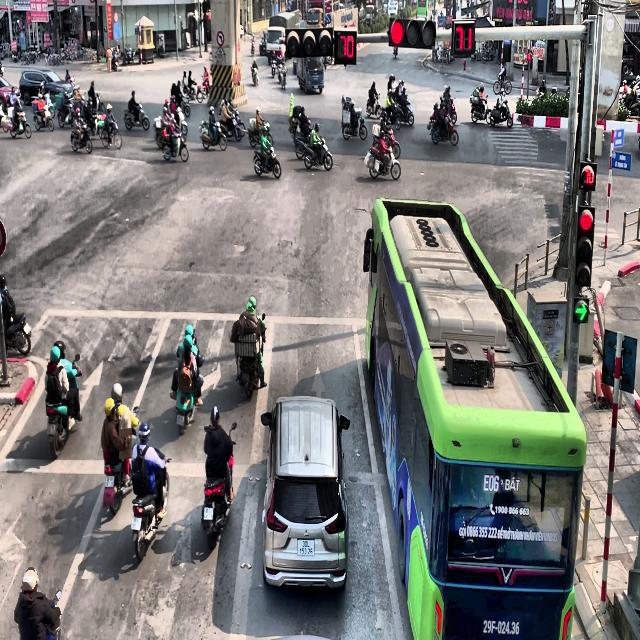BUS: (363, 197, 587, 639)
CAR: (260, 395, 350, 590), (19, 69, 75, 106)
MOTORBIKE: (201, 422, 237, 550), (131, 455, 171, 562), (102, 406, 140, 515), (45, 354, 82, 459), (235, 313, 266, 398), (0, 275, 31, 355), (174, 355, 204, 436), (364, 144, 400, 180), (4, 312, 31, 356), (303, 136, 333, 171), (162, 124, 189, 162), (253, 143, 281, 179), (1, 108, 32, 139), (428, 115, 458, 146), (199, 120, 227, 151), (342, 109, 367, 140), (70, 118, 92, 153), (124, 102, 150, 131), (218, 112, 244, 141), (99, 118, 122, 150), (248, 120, 274, 148), (490, 96, 513, 127), (32, 100, 54, 132), (470, 94, 491, 124), (382, 127, 401, 159), (393, 99, 414, 126), (380, 104, 401, 131), (58, 99, 76, 128), (439, 96, 457, 124), (183, 82, 203, 103), (493, 73, 512, 95), (366, 92, 381, 119), (278, 65, 287, 89), (250, 65, 258, 85), (270, 57, 276, 77)
TRAFFIC_LIGHT: (574, 203, 594, 288), (389, 17, 436, 48), (452, 20, 476, 56), (334, 30, 357, 64), (579, 161, 597, 190), (573, 298, 589, 324)
